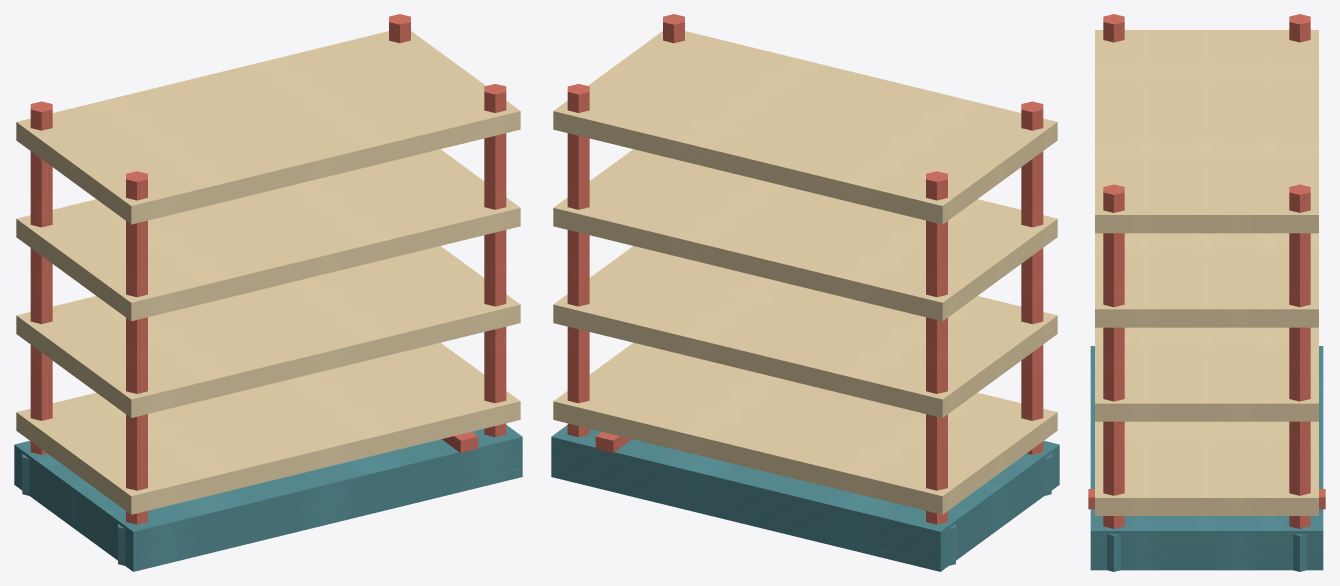
Rendered from atlas100-s080-a06.lod2.glb.
3 renders of one model, left to right at view 1: azimuth 30°, elevation 25°; view 2: azimuth 150°, elevation 25°; view 3: azimuth 270°, elevation 25°, orthographic. The views are drawn at different scales.
Visible parts, largest first — view 1: atlas100-s080-a06:part-014, atlas100-s080-a06:part-011, atlas100-s080-a06:part-012, atlas100-s080-a06:part-013, atlas100-s080-a06:part-000, atlas100-s080-a06:part-009, atlas100-s080-a06:part-005, atlas100-s080-a06:part-003; view 2: atlas100-s080-a06:part-014, atlas100-s080-a06:part-011, atlas100-s080-a06:part-012, atlas100-s080-a06:part-013, atlas100-s080-a06:part-000, atlas100-s080-a06:part-007, atlas100-s080-a06:part-003, atlas100-s080-a06:part-005; view 3: atlas100-s080-a06:part-014, atlas100-s080-a06:part-013, atlas100-s080-a06:part-012, atlas100-s080-a06:part-011, atlas100-s080-a06:part-000, atlas100-s080-a06:part-007, atlas100-s080-a06:part-009, atlas100-s080-a06:part-003, atlas100-s080-a06:part-005, atlas100-s080-a06:part-008, atlas100-s080-a06:part-010.
Part boxes in pixels (x1,y1,x2,y2): atlas100-s080-a06:part-014: (16, 31, 520, 224); atlas100-s080-a06:part-011: (16, 342, 520, 514); atlas100-s080-a06:part-012: (16, 246, 520, 417); atlas100-s080-a06:part-013: (16, 149, 520, 321); atlas100-s080-a06:part-000: (14, 425, 522, 571); atlas100-s080-a06:part-009: (484, 84, 506, 437); atlas100-s080-a06:part-005: (126, 171, 147, 524); atlas100-s080-a06:part-003: (30, 101, 52, 454); atlas100-s080-a06:part-014: (553, 31, 1057, 224); atlas100-s080-a06:part-011: (553, 342, 1057, 514); atlas100-s080-a06:part-012: (553, 246, 1057, 417); atlas100-s080-a06:part-013: (553, 149, 1057, 321); atlas100-s080-a06:part-000: (551, 425, 1059, 571); atlas100-s080-a06:part-007: (567, 84, 589, 437); atlas100-s080-a06:part-003: (926, 171, 947, 524); atlas100-s080-a06:part-005: (1021, 101, 1043, 454); atlas100-s080-a06:part-014: (1095, 30, 1318, 233); atlas100-s080-a06:part-013: (1095, 233, 1318, 327); atlas100-s080-a06:part-012: (1095, 327, 1318, 421); atlas100-s080-a06:part-011: (1095, 421, 1318, 515); atlas100-s080-a06:part-000: (1090, 346, 1323, 570); atlas100-s080-a06:part-007: (1289, 184, 1310, 528); atlas100-s080-a06:part-009: (1103, 184, 1124, 528); atlas100-s080-a06:part-003: (1289, 14, 1310, 42); atlas100-s080-a06:part-005: (1103, 14, 1124, 42); atlas100-s080-a06:part-008: (1293, 534, 1306, 571); atlas100-s080-a06:part-010: (1107, 534, 1120, 571).
Size of the model in its own units: 2.69 by 2.48 by 1.43.
3 materials, 3 textured.
